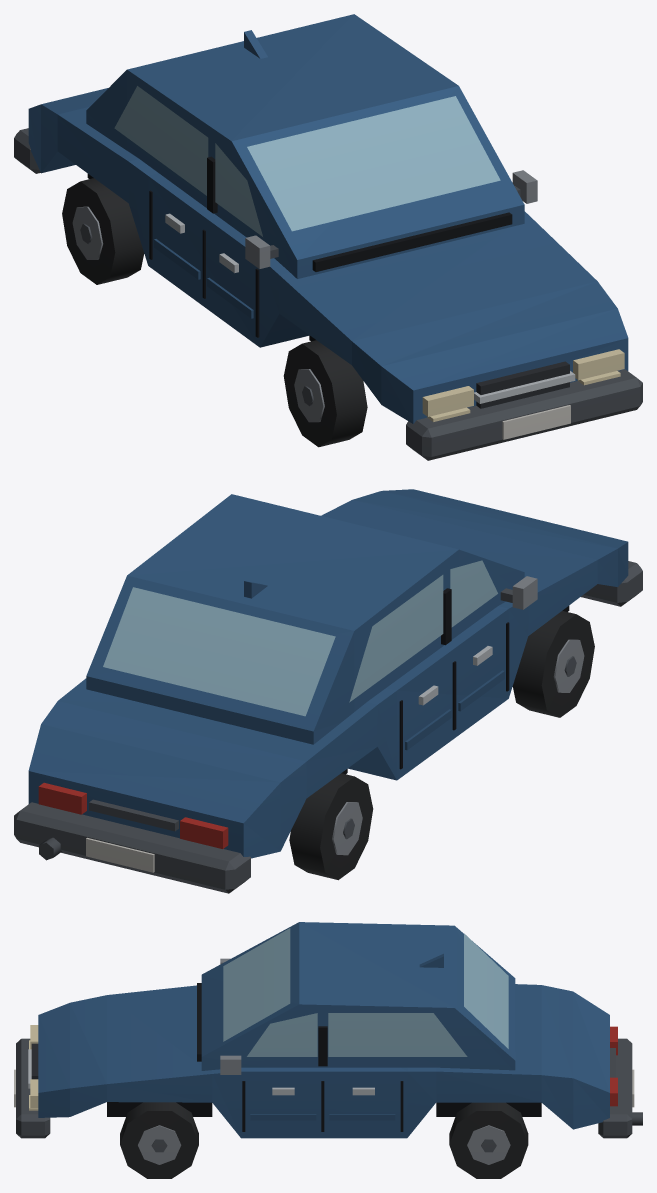
Rendered from sedan_01.glb.
3 views of the same model, one above another, from view 1: azimuth 30°, elevation 25°; view 2: azimuth 150°, elevation 25°; view 3: azimuth 270°, elevation 25° (orthographic). The views are drawn at different scales.
Visible parts, largest first — view 1: sedan_01; view 2: sedan_01; view 3: sedan_01.
Part boxes in pixels (x1=…): sedan_01: x1=14, y1=14, x2=642, y2=460; sedan_01: x1=14, y1=489, x2=642, y2=893; sedan_01: x1=14, y1=922, x2=642, y2=1178.
Bounding box in the file's own units: 1.18 × 0.9654 × 3.1.
